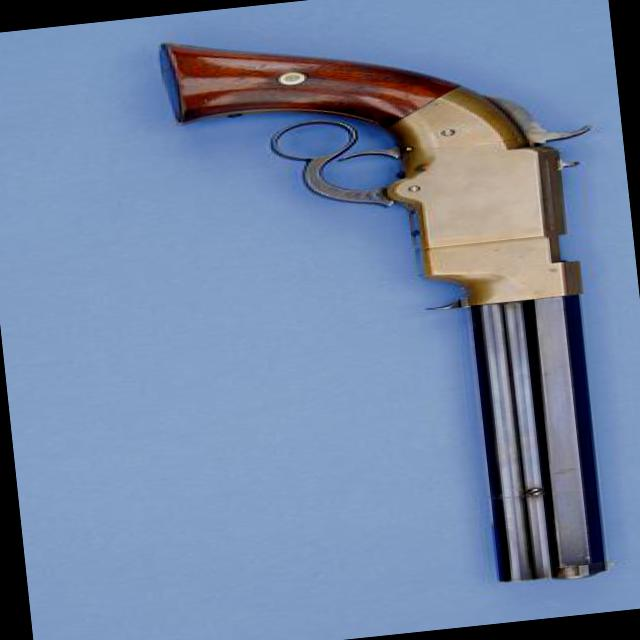handgun: (154, 0, 639, 615)
